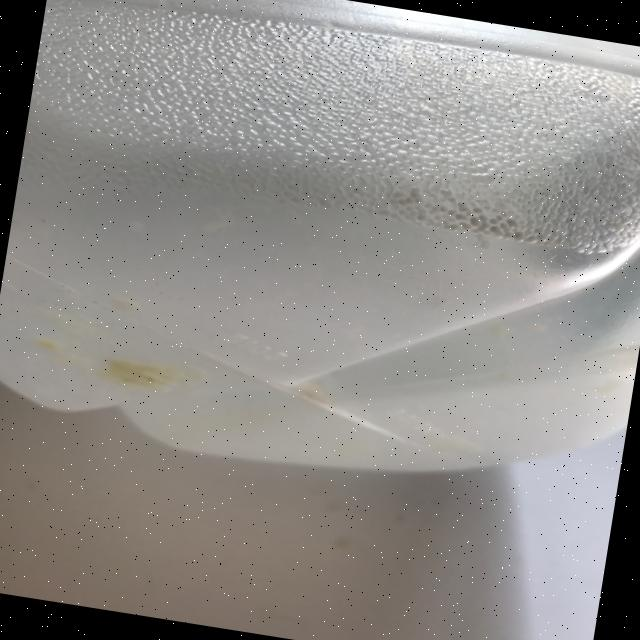plastic: (0, 0, 640, 519)
